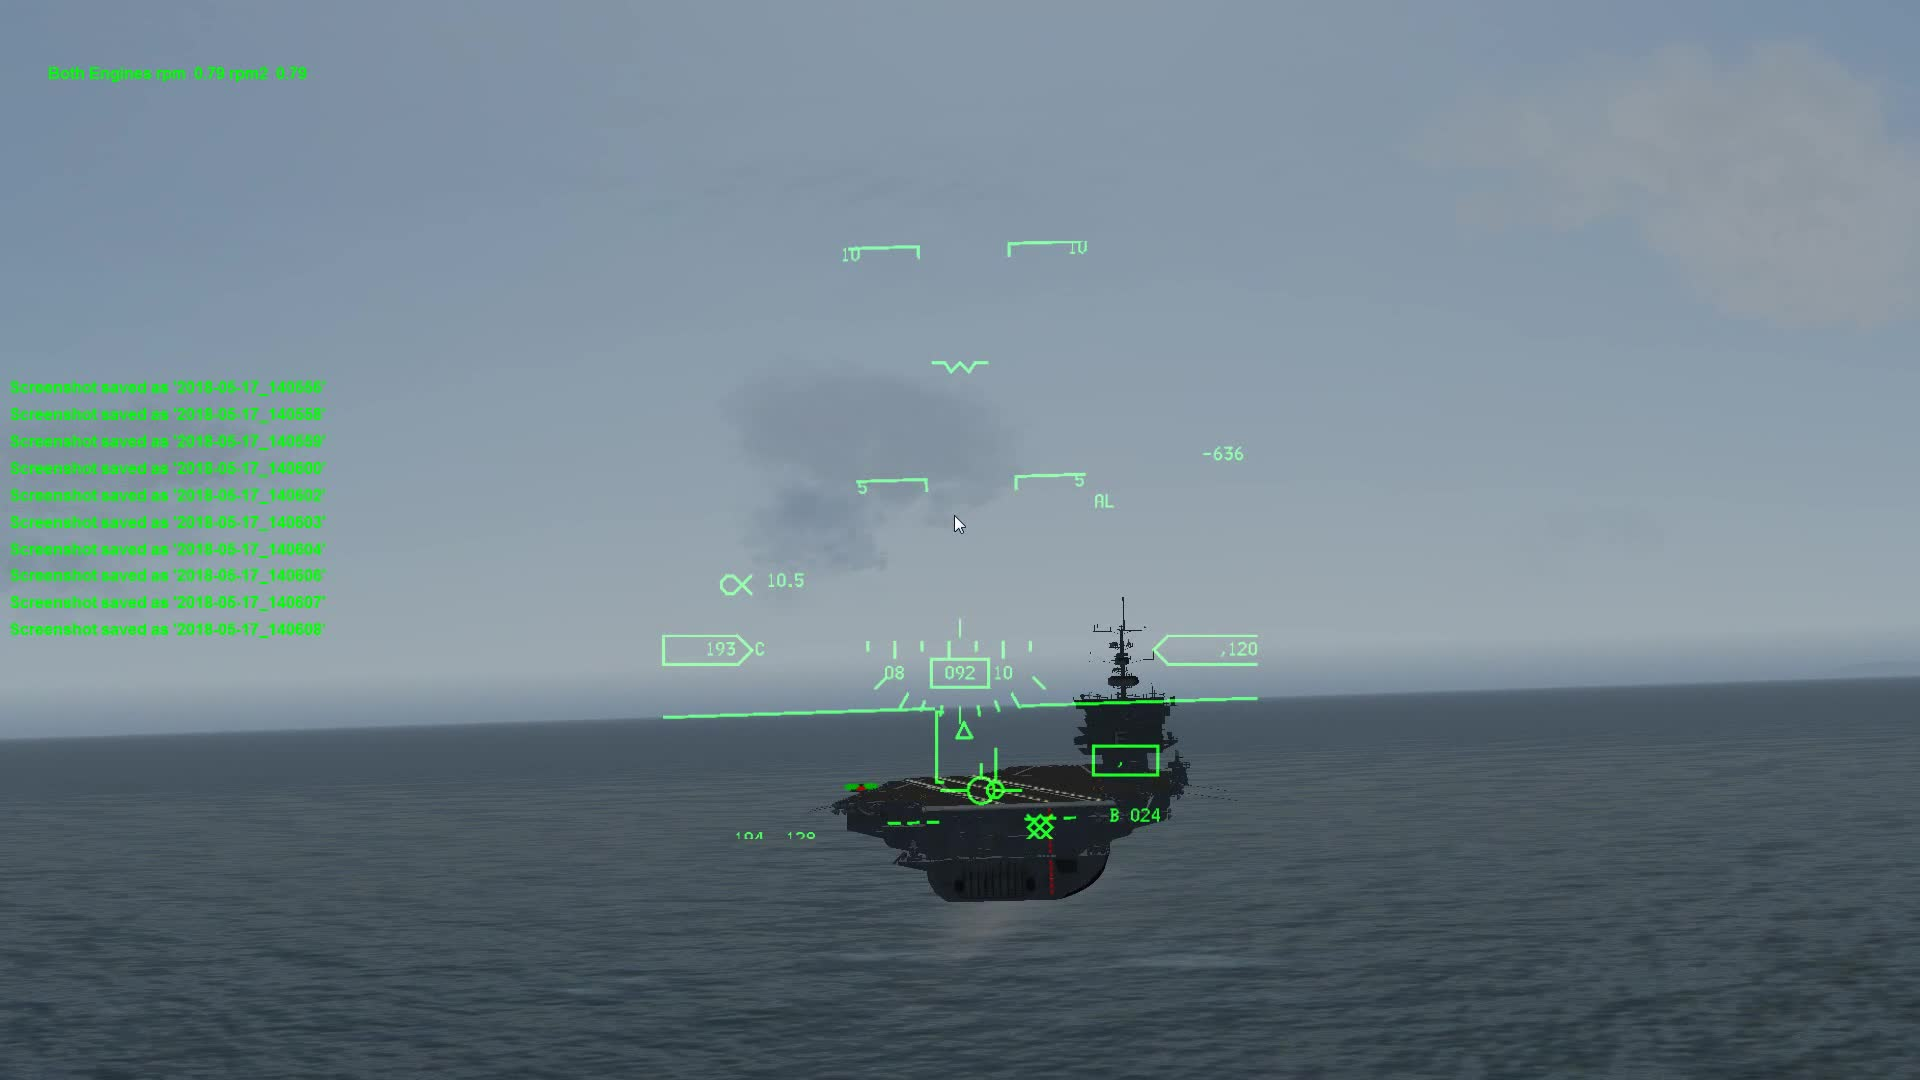speed vector: (947, 758, 1026, 810)
